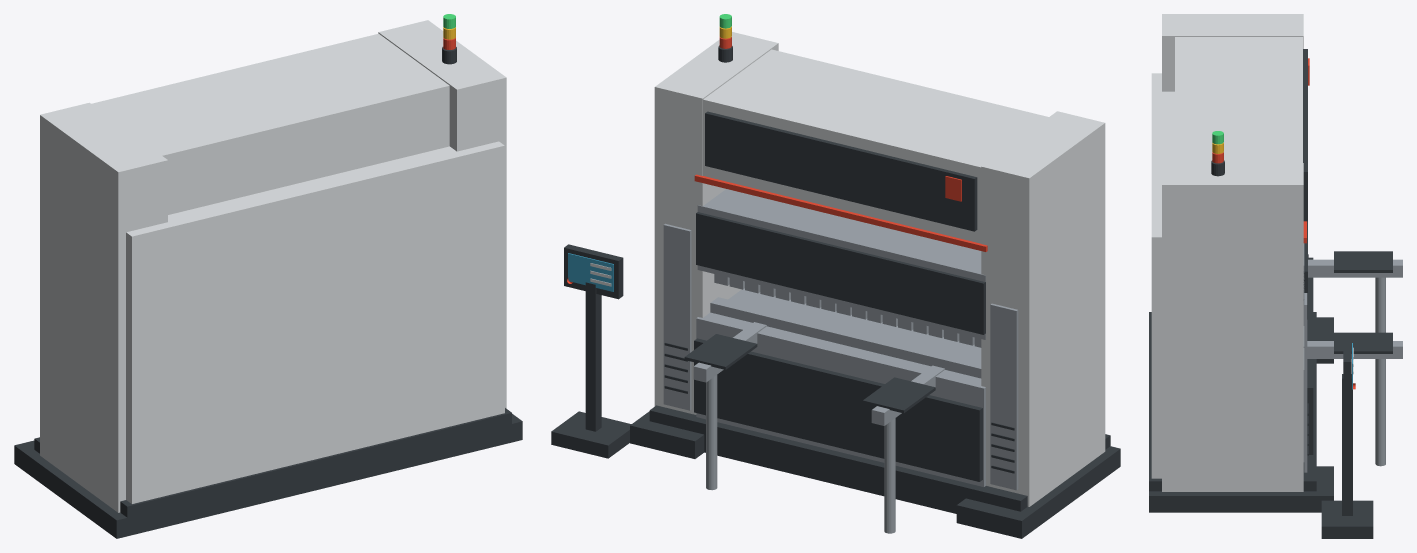
Rendered from Bender_PressBrake.glb.
3 renders of one model, left to right at view 1: azimuth 30°, elevation 25°; view 2: azimuth 150°, elevation 25°; view 3: azimuth 270°, elevation 25°, orthographic. The views are drawn at different scales.
Parts seen in each view (by area): view 1: RearEnclosure, SideColumn (×2), TopHousing, Plinth, Foot; view 2: SideColumn (×2), TopHousing, BedCover, RamFront, BlackFascia, LowerBed, Plinth, SideInset (×2), RamBeam, Foot (×2), LowerDie, SupportPlate (×2) (+7 smaller); view 3: SideColumn (×2), TopHousing, RearEnclosure, Foot (×2), SupportPlate (×2), SupportArm (×2), HMI_Foot, SupportLeg (×2), Plinth, HMI_Post, BedCover, BlackFascia (+2 smaller).
Boxes of the visible parts, x1,y1,x2,y2 form: RearEnclosure: (126,141,504,503); SideColumn (×2): (40,20,506,512); TopHousing: (91,33,449,214); Plinth: (34,408,511,536); Foot: (14,440,184,538); SideColumn (×2): (654,32,1105,506); TopHousing: (703,49,1048,243); BedCover: (694,338,982,481); RamFront: (696,212,985,334); BlackFascia: (705,111,977,231); LowerBed: (696,288,985,486); Plinth: (649,405,1110,513); SideInset (×2): (663,223,1018,490); RamBeam: (697,189,985,339); Foot (×2): (630,411,1120,538); LowerDie: (710,297,981,378); SupportPlate (×2): (684,334,935,413); SideColumn (×2): (1162,14,1303,491); TopHousing: (1175,37,1302,162); RearEnclosure: (1151,73,1174,478); Foot (×2): (1149,317,1333,512); SupportPlate (×2): (1334,251,1392,353); SupportArm (×2): (1303,259,1402,358); HMI_Foot: (1321,500,1373,538); SupportLeg (×2): (1375,277,1385,466); Plinth: (1149,312,1316,491); HMI_Post: (1342,374,1352,515); BedCover: (1307,257,1313,454); BlackFascia: (1303,49,1307,221).
Bounding box in the file's own units: 3.93 × 3.26 × 2.06.
